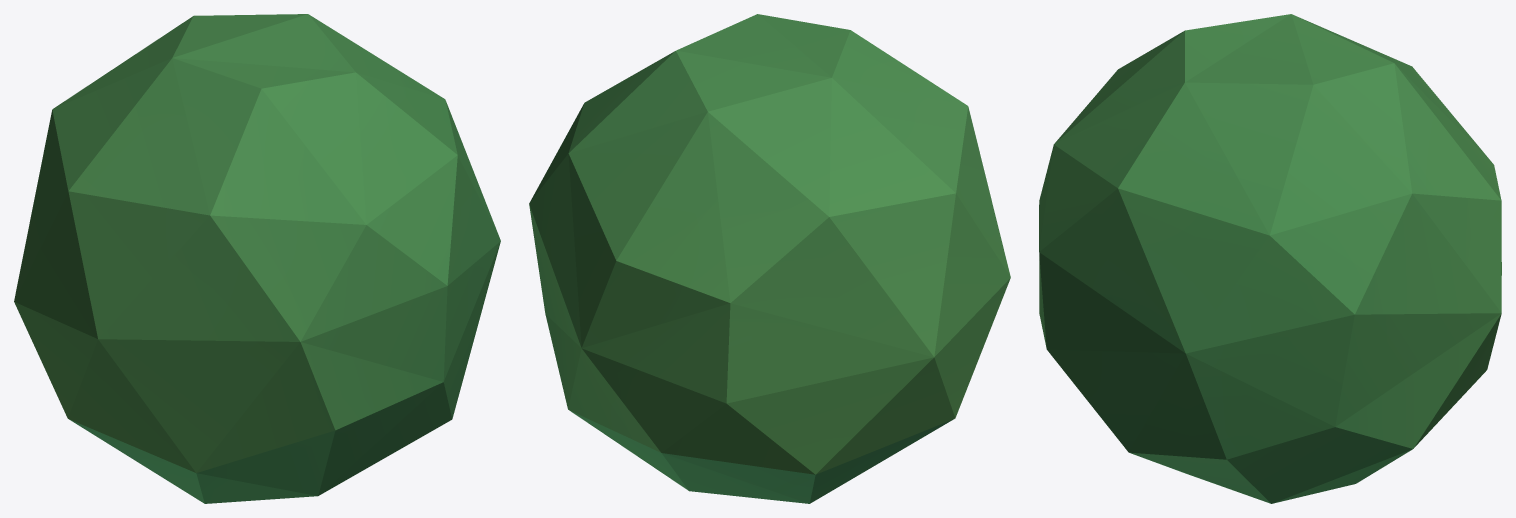
File: shrub.fbx
3 renders of one model, left to right at view 1: azimuth 30°, elevation 25°; view 2: azimuth 150°, elevation 25°; view 3: azimuth 270°, elevation 25°, orthographic.
Visible parts, largest first — view 1: shrub-round; view 2: shrub-round; view 3: shrub-round.
Part boxes in pixels (x1,y1,x2,y2): shrub-round: (14, 14, 500, 503); shrub-round: (529, 14, 1010, 503); shrub-round: (1039, 14, 1501, 503).
Bounding box in the file's own units: 146 × 146 × 147.
1 material, 1 textured.
